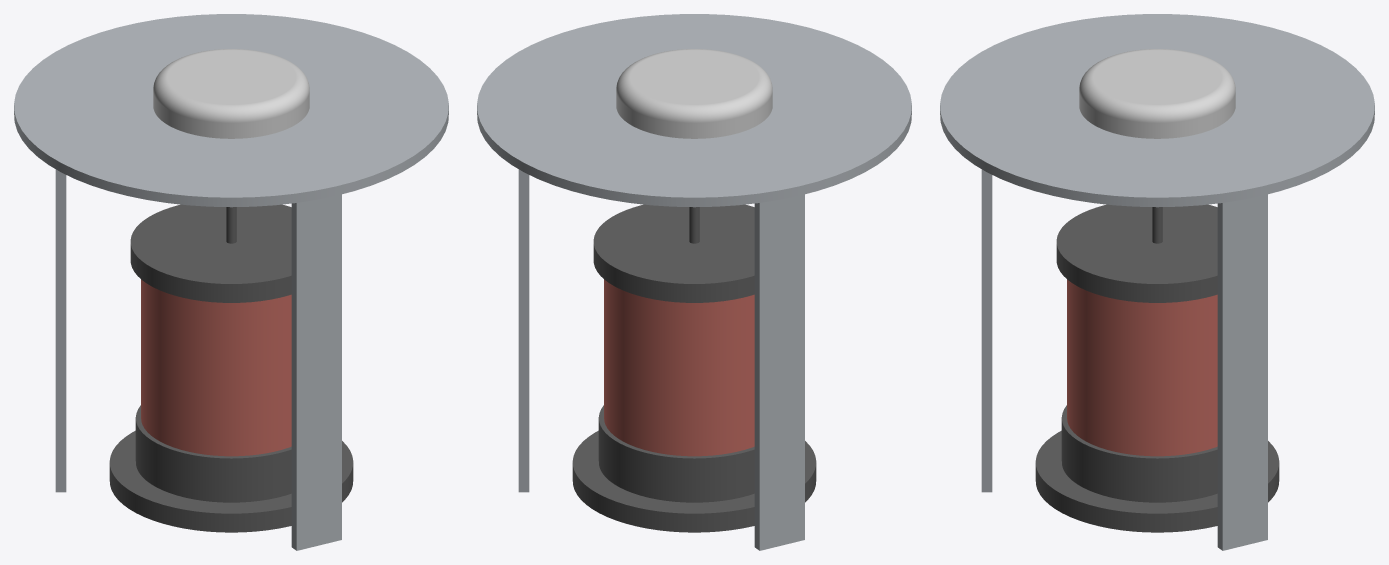
File: step_03.glb
3 views of the same model, side by side, from view 1: azimuth 30°, elevation 25°; view 2: azimuth 150°, elevation 25°; view 3: azimuth 270°, elevation 25° (orthographic).
Parts seen in each view (by area): view 1: part__topmark plate, part__lantern lens, part__topmark strut 3, part__lantern base, part__lantern cap, part__antenna, part__topmark strut 2; view 2: part__topmark plate, part__lantern lens, part__topmark strut 2, part__lantern base, part__lantern cap, part__antenna, part__topmark strut 1; view 3: part__topmark plate, part__lantern lens, part__topmark strut 1, part__lantern base, part__lantern cap, part__antenna, part__topmark strut 3.
Boxes of the visible parts, <box> form: part__topmark plate: <box>14,14,448,207</box>; part__lantern lens: <box>141,279,291,456</box>; part__topmark strut 3: <box>291,194,341,550</box>; part__lantern base: <box>109,405,353,532</box>; part__lantern cap: <box>130,204,291,302</box>; part__antenna: <box>153,49,309,138</box>; part__topmark strut 2: <box>55,169,66,492</box>; part__topmark plate: <box>477,14,911,207</box>; part__lantern lens: <box>604,279,754,456</box>; part__topmark strut 2: <box>754,194,804,550</box>; part__lantern base: <box>572,405,816,532</box>; part__lantern cap: <box>593,204,754,302</box>; part__antenna: <box>616,49,772,138</box>; part__topmark strut 1: <box>518,169,529,492</box>; part__topmark plate: <box>940,14,1374,207</box>; part__lantern lens: <box>1067,279,1217,456</box>; part__topmark strut 1: <box>1217,194,1267,550</box>; part__lantern base: <box>1035,405,1279,532</box>; part__lantern cap: <box>1056,204,1217,302</box>; part__antenna: <box>1079,49,1235,138</box>; part__topmark strut 3: <box>981,169,992,492</box>.
Bounding box in the file's own units: 250 × 256 × 250.
